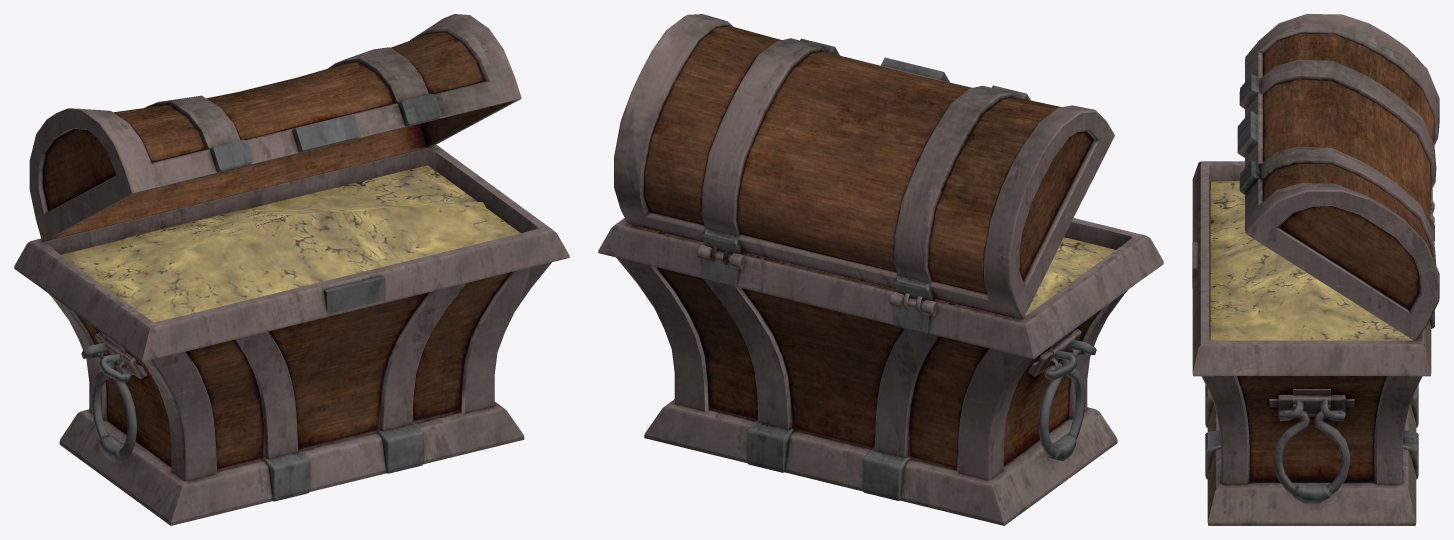
File: opera07.glb
3 views of the same model, side by side, from view 1: azimuth 30°, elevation 25°; view 2: azimuth 150°, elevation 25°; view 3: azimuth 270°, elevation 25° (orthographic). The views are drawn at different scales.
Visible parts, largest first — view 1: Chest_Gold1; view 2: Chest_Gold1; view 3: Chest_Gold1.
Boxes of the visible parts, <box> form: Chest_Gold1: <box>14,14,569,525</box>; Chest_Gold1: <box>598,14,1163,525</box>; Chest_Gold1: <box>1192,14,1439,525</box>.
Bounding box in the file's own units: 0.9355 × 0.7712 × 0.5029.
1 material, 1 textured.
